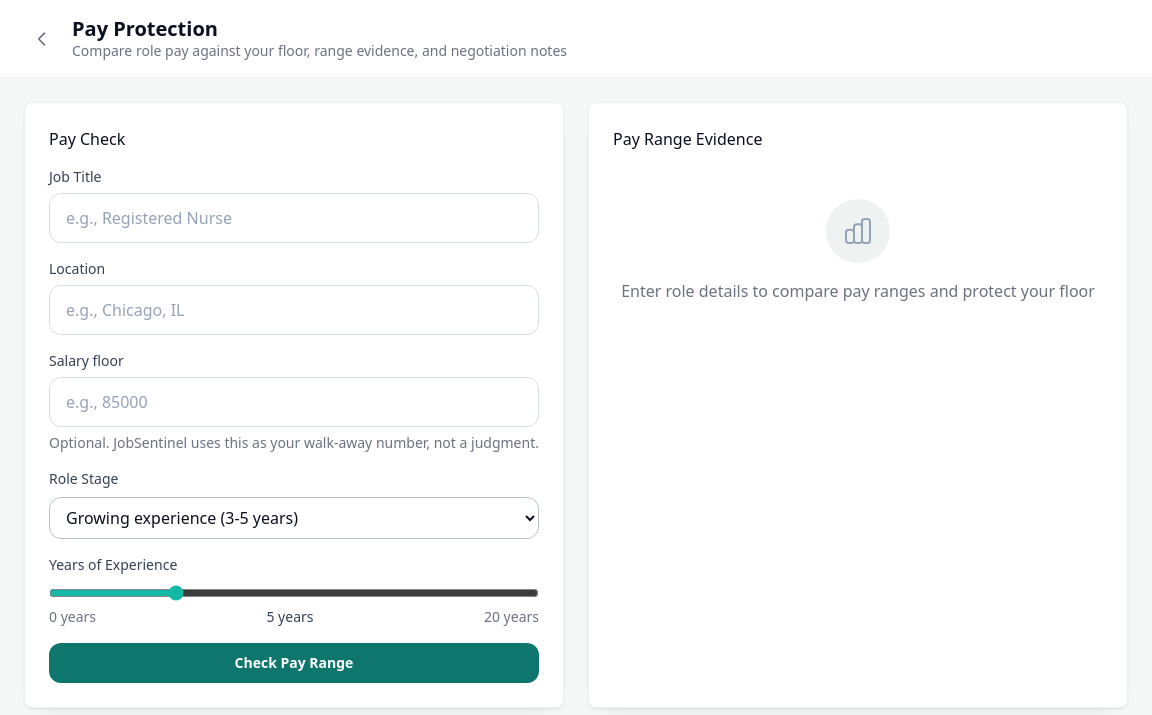
Scenario: Salary › shows a past-pay guardrail without making legal claims
The image size is (1152, 715).
Type "Registered Nurse" into the field labelled "Job Title" at (294, 218), box [49, 193, 539, 243]
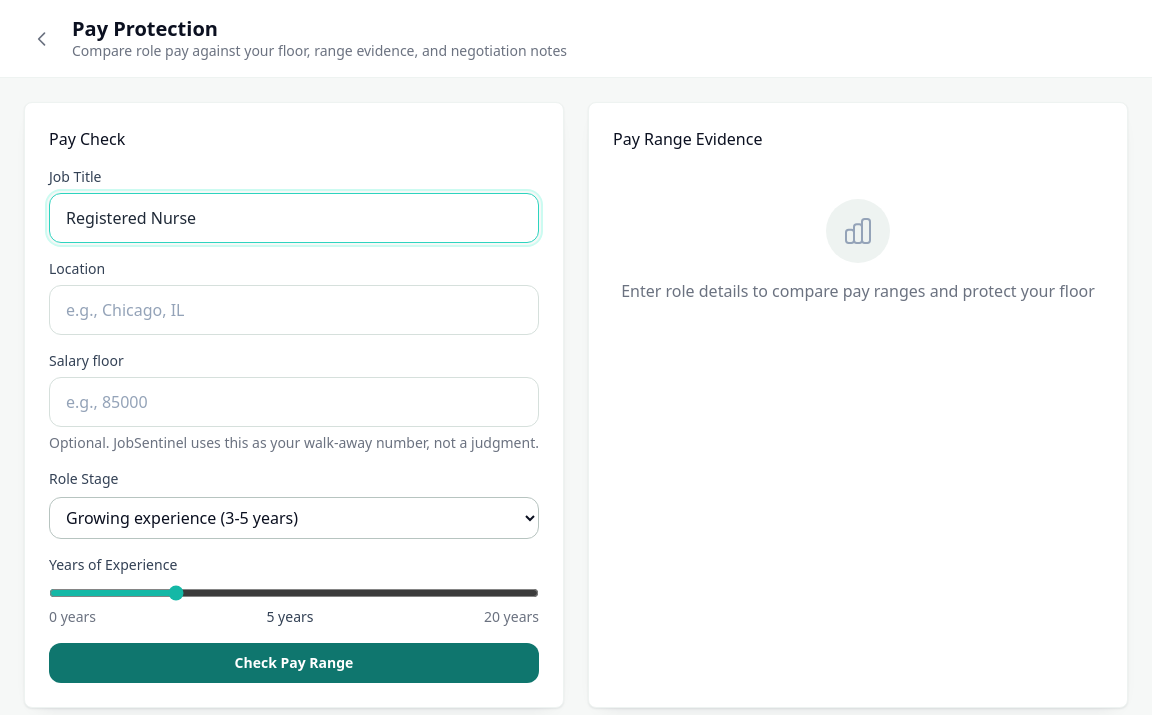
Type "Denver, CO" into the field labelled "Location" at (294, 310), box [49, 285, 539, 335]
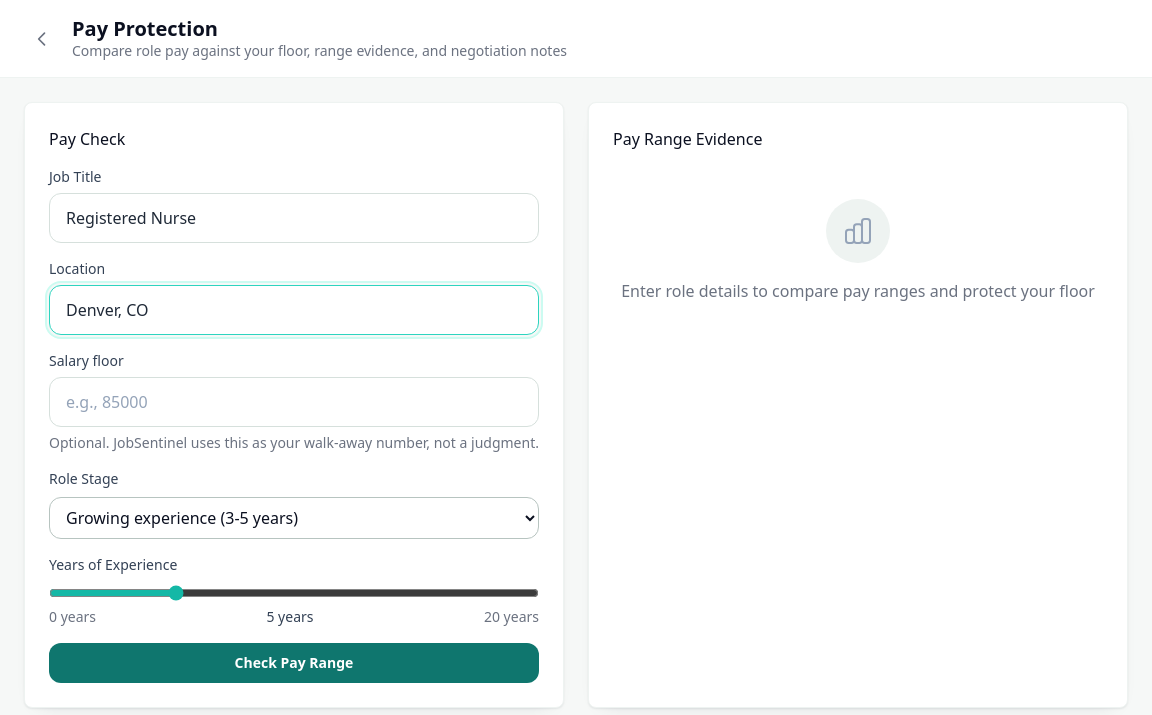
Click the button "Check Pay Range" at (294, 663), box [49, 643, 539, 683]
(page scrolled)
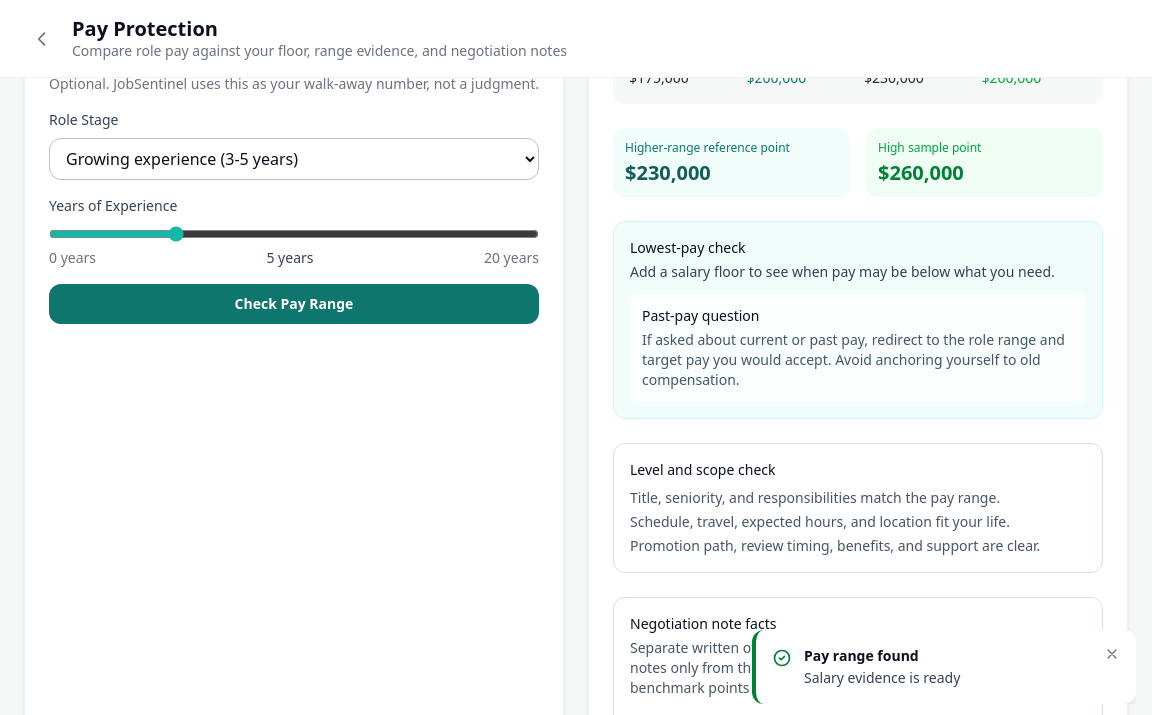
Expected: the text "Past-pay question" is shown, [642, 306, 760, 325]
Expected: the text "role range and target pay" is shown, [642, 330, 1065, 389]
